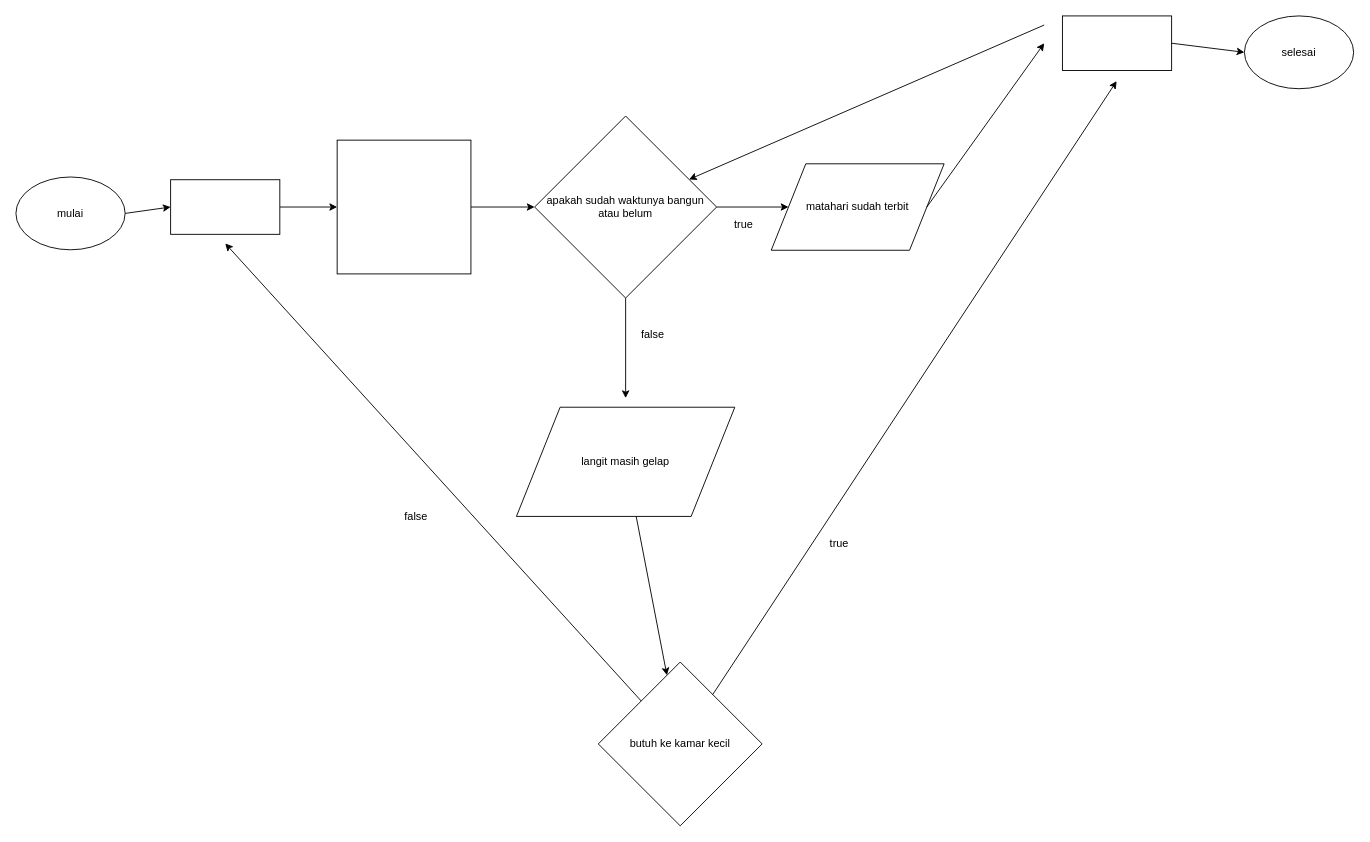
This 1370x842 diagram has some shape labels left out. Here are the shapes that lost their labels. From the top down, the box of each, then its label:
(1062, 15, 1172, 71): beranjak dari kasur
(170, 179, 280, 234): tidur
(336, 139, 471, 274): mata terbuka
